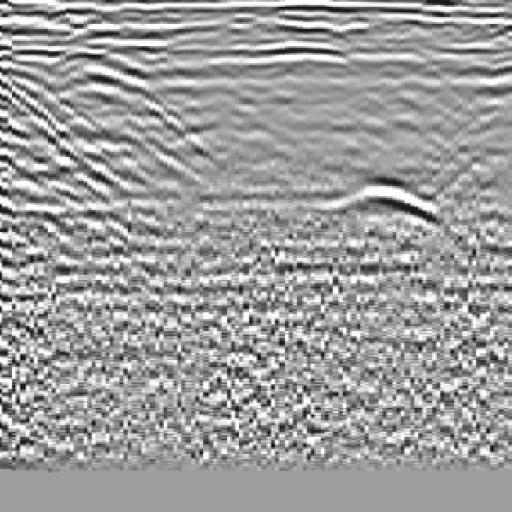metalic: (301, 39, 472, 251)
nonmetalic: (1, 44, 121, 264)
